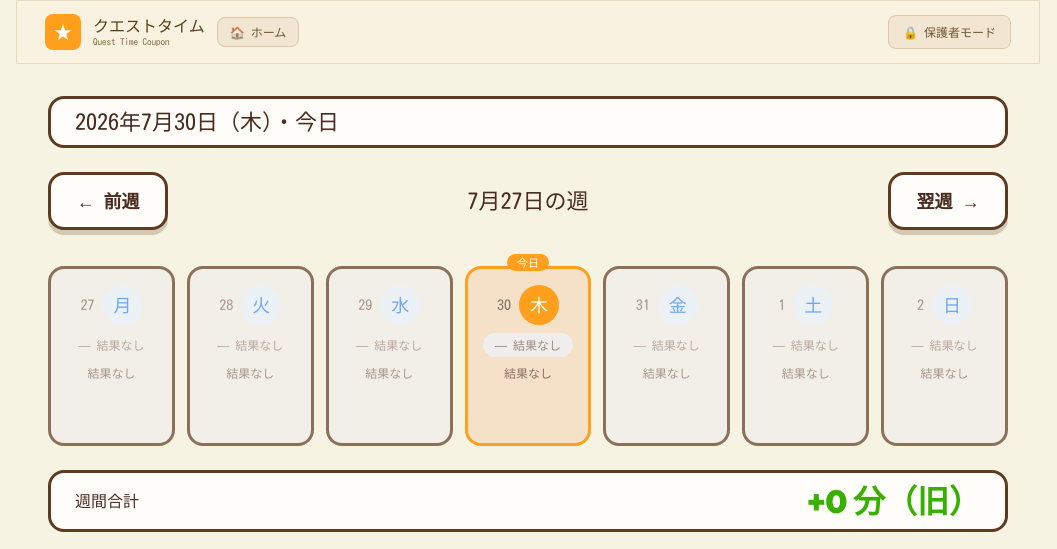
Scenario: ResultsPage week UI (#17) › 確認済みの拒否・未登録は週カードで採点拒否/未登録と表示する
This screenshot has width=1057, height=549.
Click the button with test id "results-prev-week".
click(108, 201)  # box [48,172,168,230]
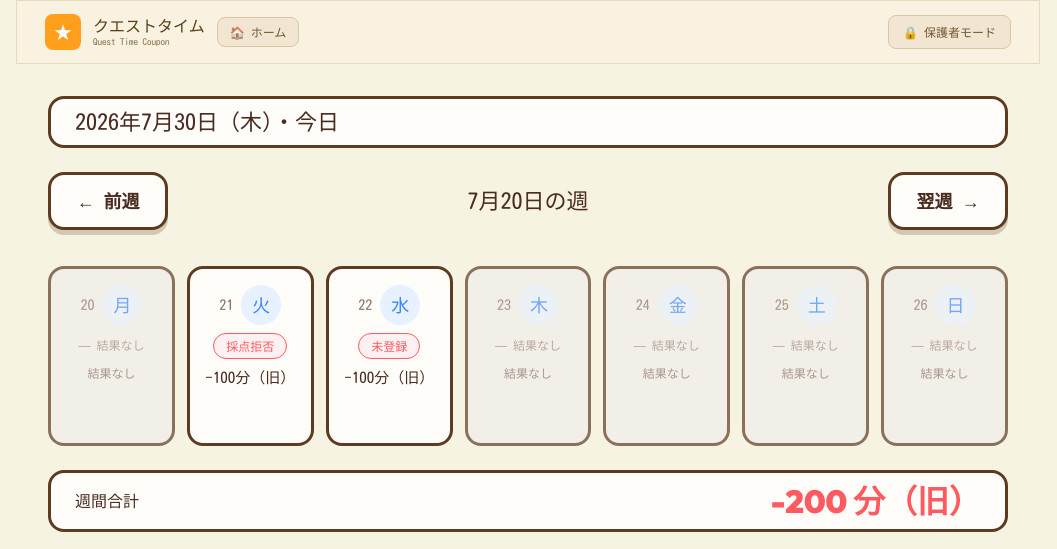
Expected: the text "採点拒否" is shown, [213,333,287,359]
Expected: the text "未登録" is shown, [358,333,420,359]
